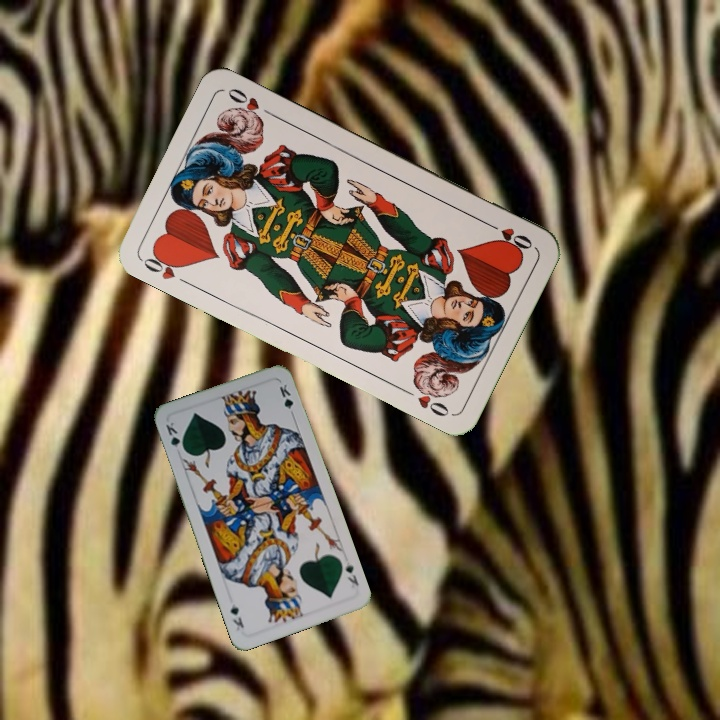GK: (161, 417, 188, 455), (341, 558, 361, 588)
HO: (139, 247, 193, 288), (481, 217, 535, 254)
